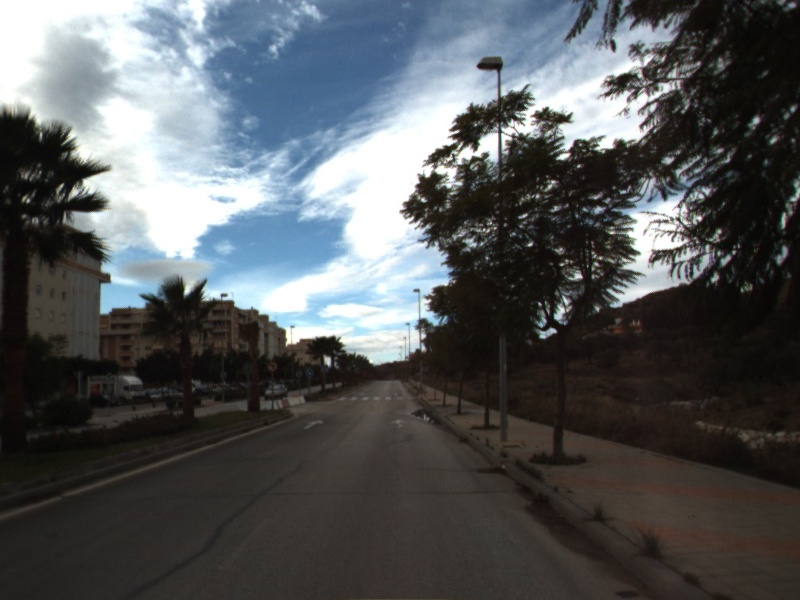STRAIGHT: (302, 418, 326, 431)
